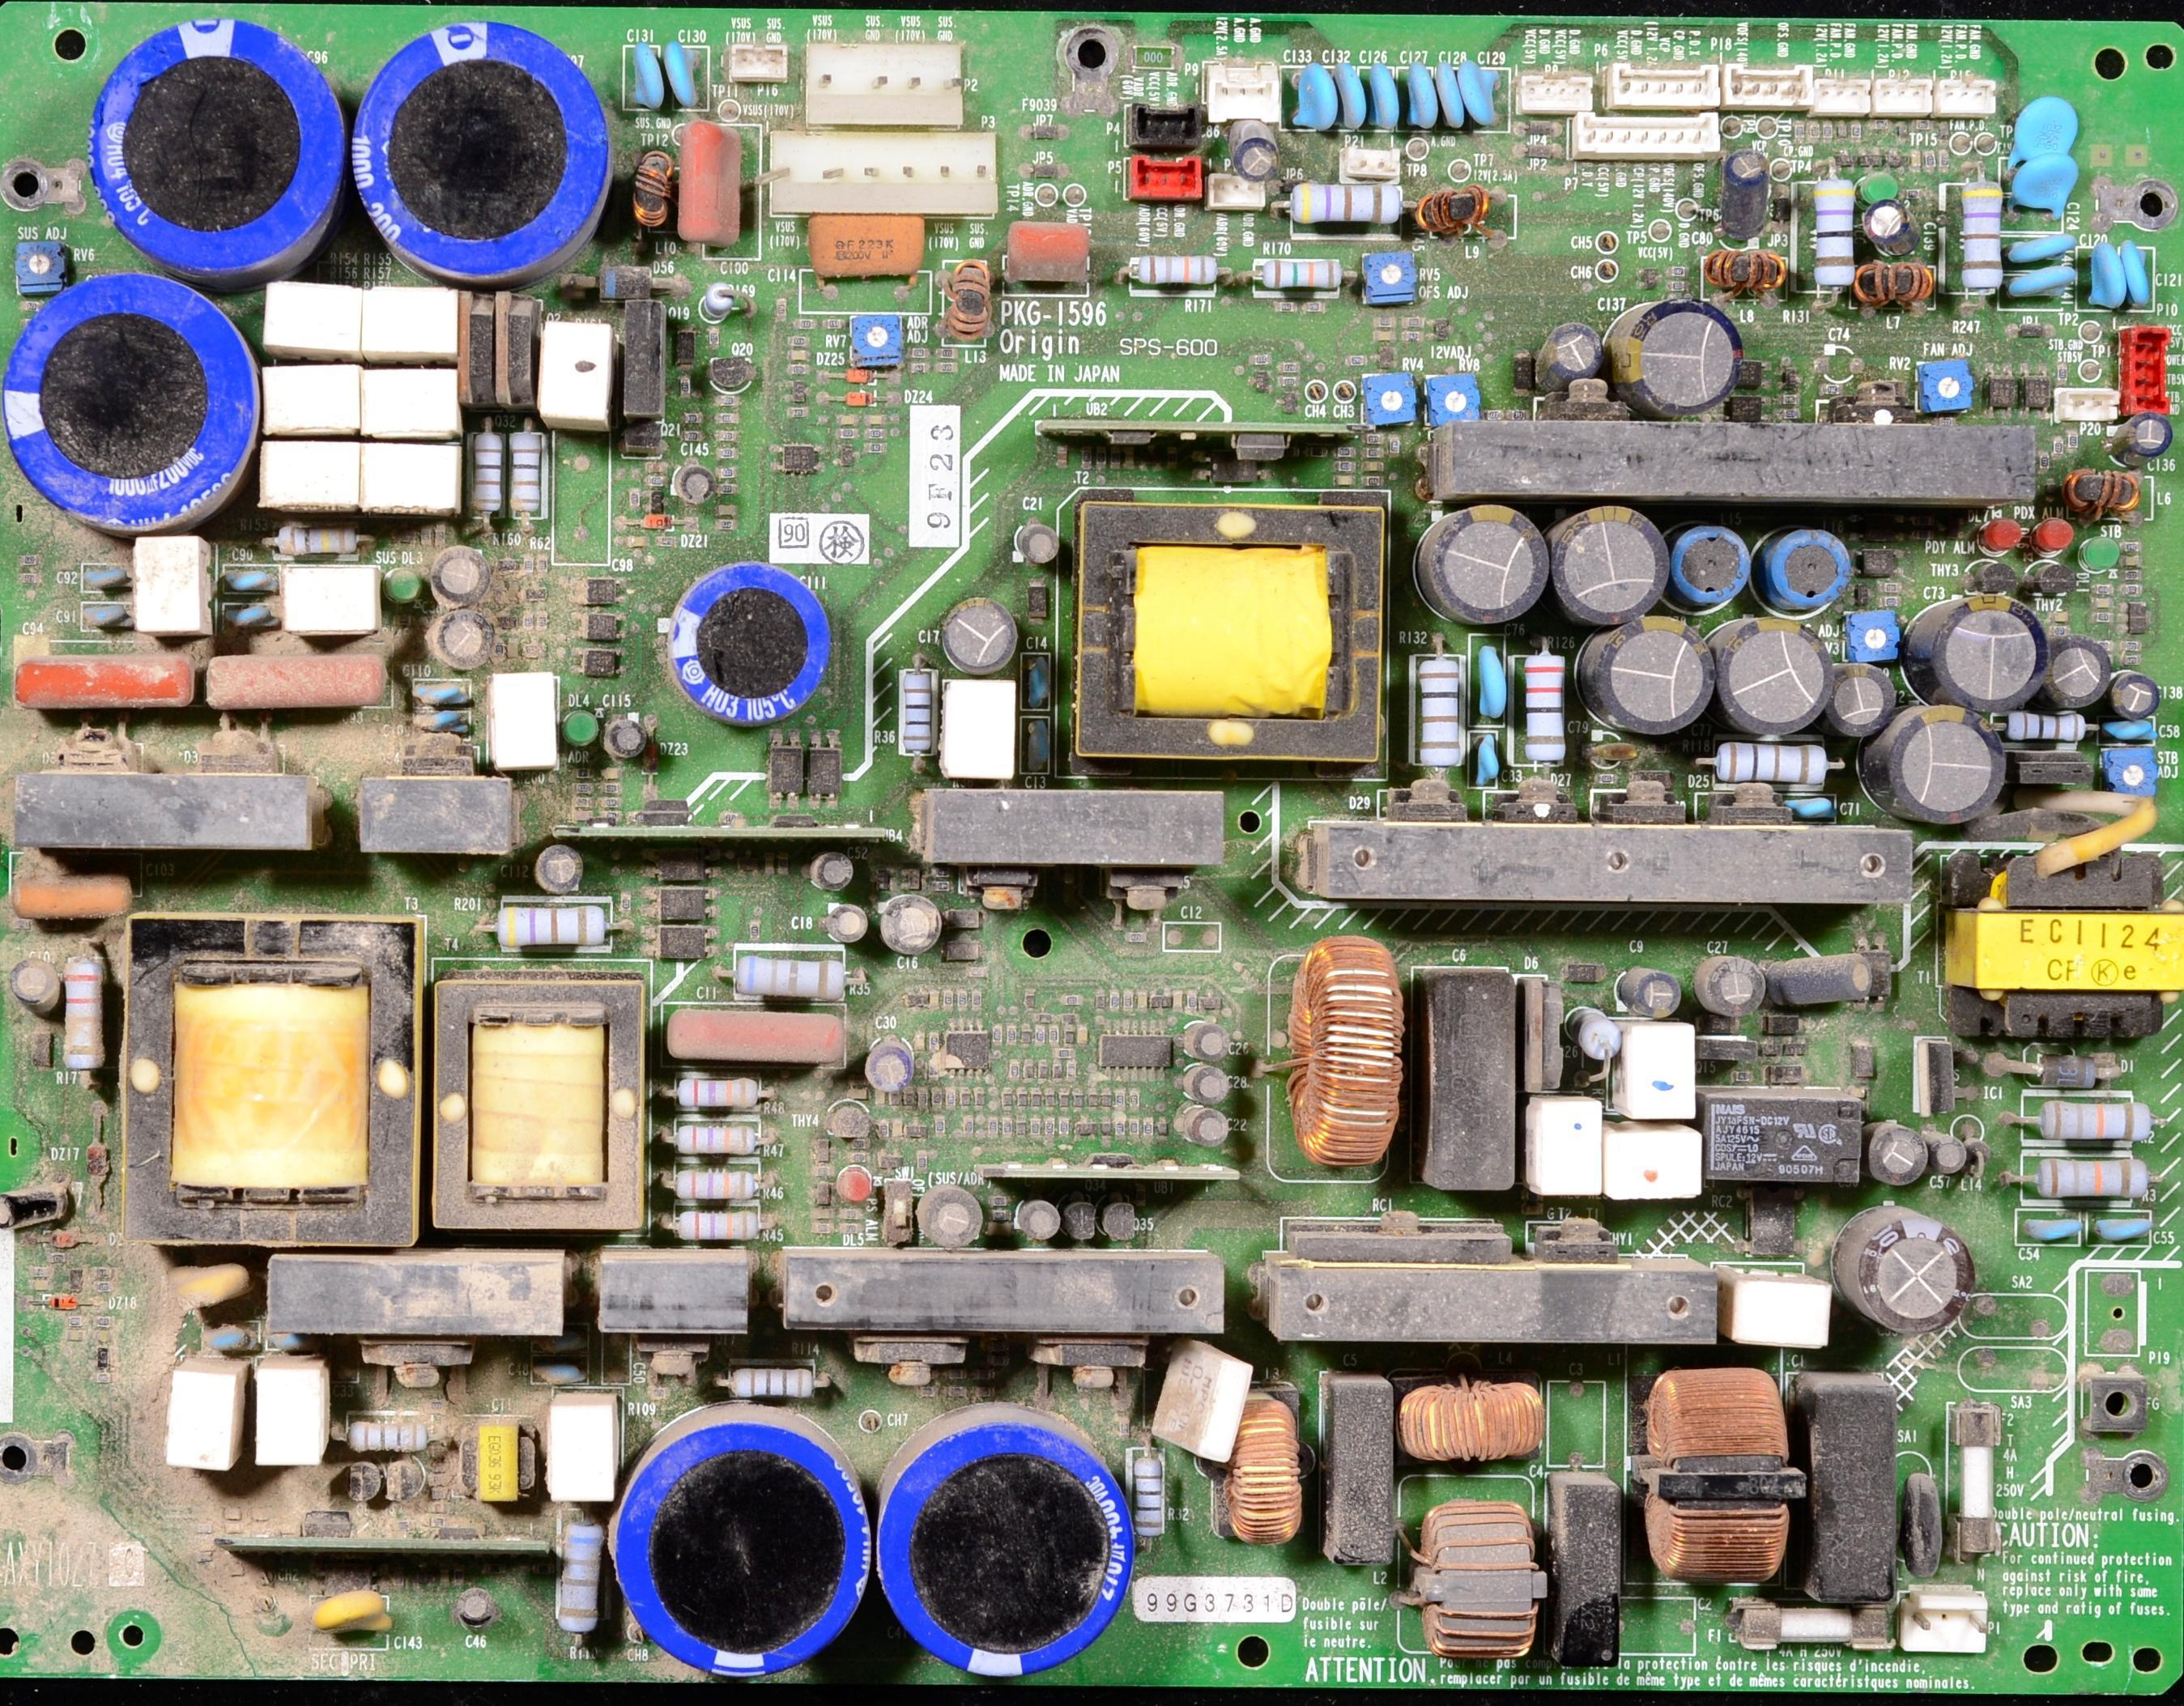Capacitor: (1854, 1207, 1973, 1345), (1546, 500, 1667, 627), (1598, 615, 1710, 735), (1614, 308, 1734, 421), (1420, 511, 1548, 616), (17, 653, 202, 724), (203, 649, 398, 715), (1713, 623, 1829, 730), (1894, 704, 2003, 814), (1926, 595, 2033, 710), (676, 117, 756, 262), (806, 210, 924, 299), (6, 874, 126, 934), (2045, 637, 2122, 719), (997, 221, 1092, 287), (1821, 660, 1894, 737), (1781, 950, 1875, 1008), (425, 603, 502, 670), (943, 602, 1012, 674), (2006, 151, 2079, 215), (1871, 1118, 1932, 1192), (168, 1258, 247, 1313), (1724, 151, 1778, 229), (310, 1592, 395, 1640), (2011, 98, 2079, 155), (917, 1191, 983, 1250), (1471, 636, 1515, 724), (1697, 959, 1765, 1015), (1454, 56, 1506, 128), (430, 551, 492, 611), (1227, 114, 1285, 177), (880, 898, 946, 954), (660, 40, 709, 113), (1429, 62, 1477, 138), (621, 36, 667, 108), (2003, 229, 2084, 268), (2006, 262, 2078, 305), (1862, 202, 1926, 250), (1624, 968, 1684, 1019), (1292, 59, 1335, 131), (7, 956, 62, 1009), (1330, 61, 1372, 132), (535, 844, 590, 896), (2016, 1214, 2093, 1248), (2092, 244, 2131, 313), (82, 597, 144, 640), (2114, 414, 2169, 462), (1366, 61, 1404, 133), (1544, 323, 1598, 373), (409, 704, 487, 738), (414, 671, 470, 715), (605, 717, 652, 767), (1405, 66, 1440, 135), (2122, 240, 2154, 314), (1186, 1100, 1226, 1154), (2114, 670, 2162, 717), (2100, 714, 2161, 750), (216, 603, 280, 636), (820, 841, 858, 895), (673, 461, 716, 510), (2093, 1212, 2153, 1245), (1186, 1058, 1232, 1102), (871, 1047, 912, 1095), (201, 1318, 257, 1352), (218, 563, 271, 598), (1018, 1198, 1062, 1237), (1016, 519, 1054, 568), (74, 564, 134, 594), (1471, 726, 1501, 789), (454, 1585, 494, 1625), (563, 707, 601, 745), (1186, 1023, 1228, 1056), (1936, 1130, 1966, 1172), (1785, 792, 1837, 817), (258, 1330, 304, 1357)
Resistor: (664, 1007, 849, 1070), (2007, 1095, 2161, 1148), (2020, 1147, 2153, 1201), (1516, 646, 1571, 768), (556, 1514, 603, 1644), (1715, 734, 1835, 786), (493, 900, 610, 951), (1807, 178, 1860, 289), (1954, 181, 2007, 292), (57, 950, 104, 1072), (733, 950, 861, 991), (1292, 181, 1407, 223), (667, 1107, 762, 1156), (670, 1156, 758, 1206), (668, 1205, 772, 1247), (508, 428, 552, 524), (1126, 1449, 1173, 1541), (1569, 1004, 1634, 1066), (469, 428, 509, 523), (275, 519, 364, 559), (668, 1074, 766, 1106), (340, 1422, 427, 1457), (2008, 708, 2086, 748), (729, 1368, 816, 1401), (1133, 251, 1218, 285), (1258, 257, 1347, 287), (700, 283, 737, 314)
